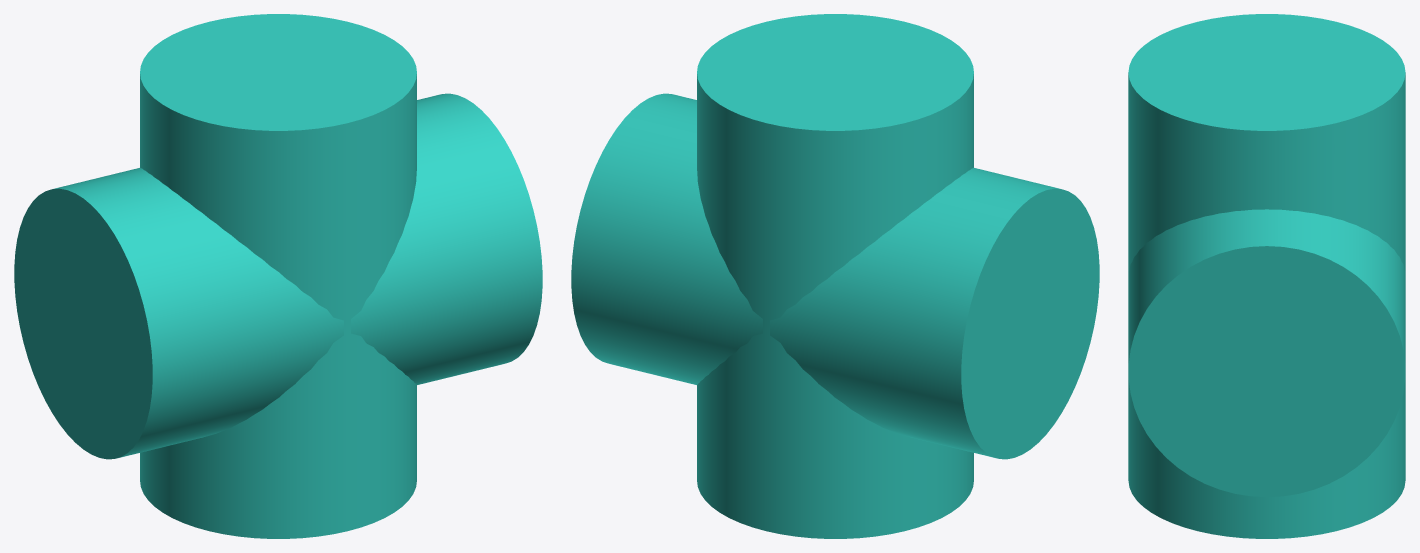
Rendered from ankle_link_sinister.obj.
3 views of the same model, side by side, from view 1: azimuth 30°, elevation 25°; view 2: azimuth 150°, elevation 25°; view 3: azimuth 270°, elevation 25° (orthographic).
Parts seen in each view (by area): view 1: Body2, Body1; view 2: Body2, Body1; view 3: Body1, Body2.
Part boxes in pixels (bbox=[...]): Body2: bbox=[14, 93, 542, 459]; Body1: bbox=[140, 14, 416, 538]; Body2: bbox=[571, 93, 1099, 459]; Body1: bbox=[697, 14, 973, 538]; Body1: bbox=[1128, 14, 1405, 538]; Body2: bbox=[1128, 209, 1405, 497].
Bounding box in the file's own units: 0.13 × 0.13 × 0.08.
